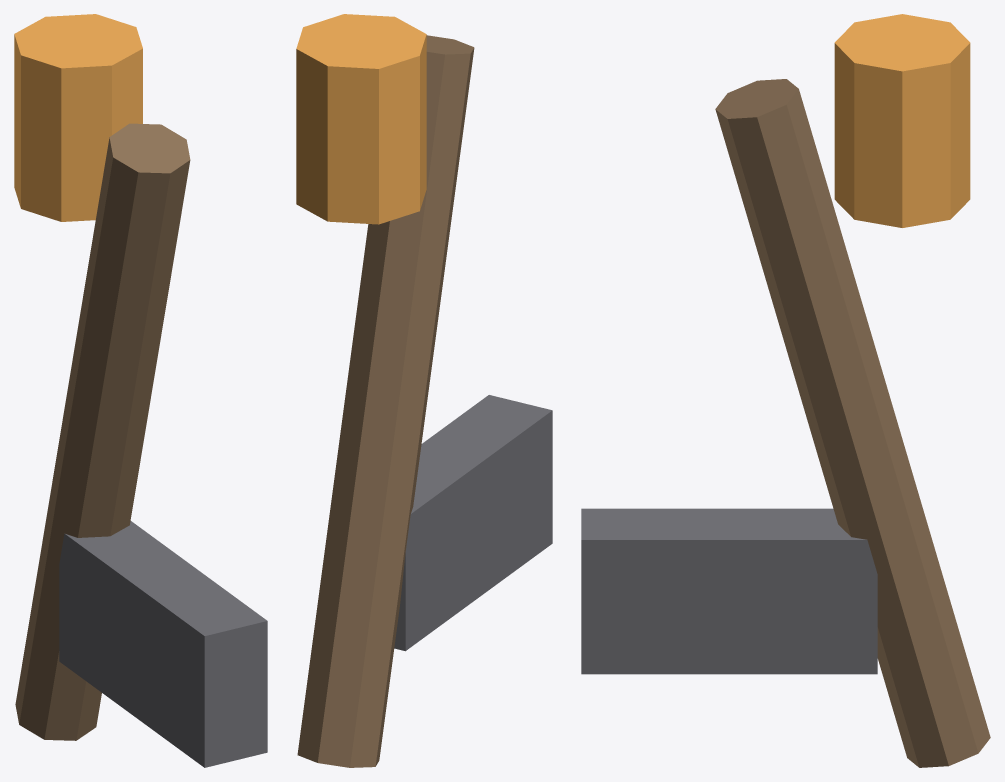
Rendered from fortress_wall_torch.glb.
The picture shows the model from 3 angles, left to right: view 1: azimuth 30°, elevation 25°; view 2: azimuth 150°, elevation 25°; view 3: azimuth 270°, elevation 25°; orthographic projection.
Visible parts, largest first — view 1: FortressWallTorch; view 2: FortressWallTorch; view 3: FortressWallTorch.
Boxes of the visible parts, <box> form: FortressWallTorch: <box>14,14,267,767</box>; FortressWallTorch: <box>296,14,552,767</box>; FortressWallTorch: <box>581,14,990,767</box>.
Bounding box in the file's own units: 0.11 × 0.6388 × 0.3315.
